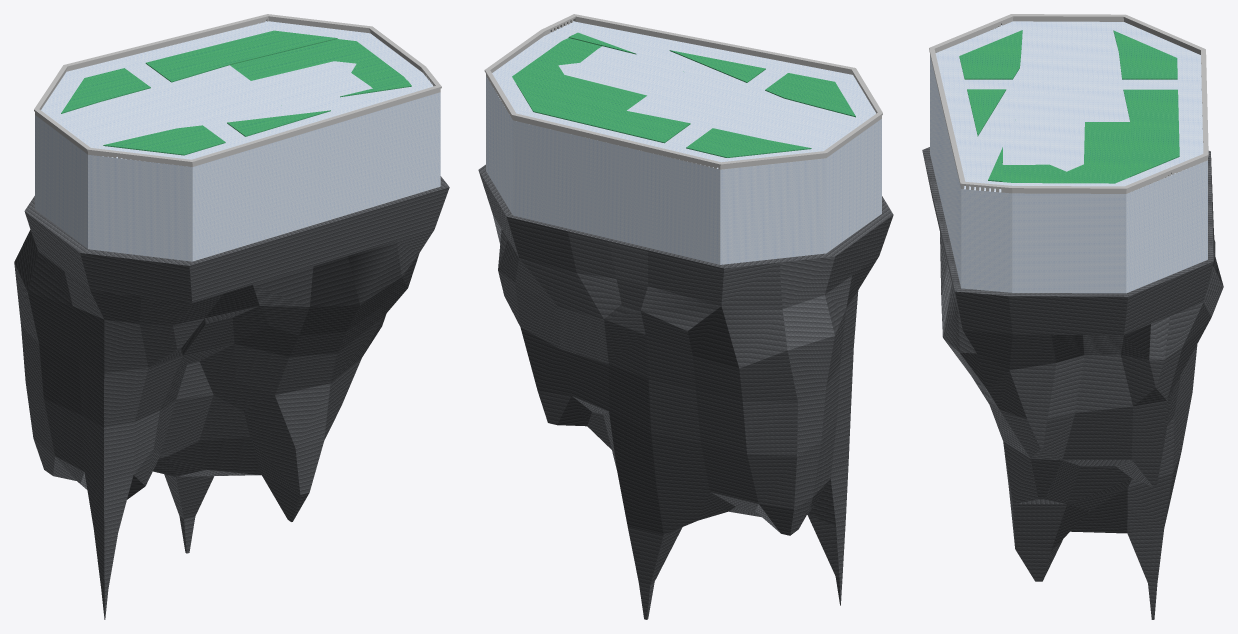
Rendered from GardenInFrontOfCastle.fbx.
The picture shows the model from 3 angles, left to right: view 1: azimuth 30°, elevation 25°; view 2: azimuth 150°, elevation 25°; view 3: azimuth 270°, elevation 25°; orthographic projection. The views are drawn at different scales.
Visible parts, largest first — view 1: GardenFoundation.001, GardenFoundation, GardenRailing.001; view 2: GardenFoundation.001, GardenFoundation, GardenRailing.001; view 3: GardenFoundation, GardenFoundation.001, GardenRailing.001.
Boxes of the visible parts, left/top/right/bottom form: GardenFoundation.001: left=14, top=176, right=449, bottom=619; GardenFoundation: left=35, top=21, right=440, bottom=261; GardenRailing.001: left=34, top=14, right=441, bottom=166; GardenFoundation.001: left=478, top=164, right=893, bottom=619; GardenFoundation: left=486, top=21, right=881, bottom=264; GardenRailing.001: left=484, top=14, right=882, bottom=169; GardenFoundation: left=930, top=21, right=1207, bottom=293; GardenFoundation.001: left=922, top=147, right=1223, bottom=619; GardenRailing.001: left=929, top=14, right=1208, bottom=193.
Bounding box in the file's own units: 8675 × 11533 × 6071.
